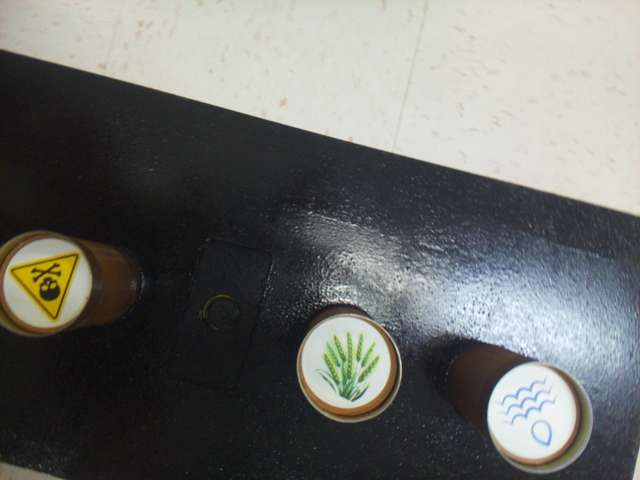toxic_fluid: (2, 239, 91, 327)
water_barrel: (490, 367, 576, 458)
wheat_barrel: (305, 319, 389, 408)
